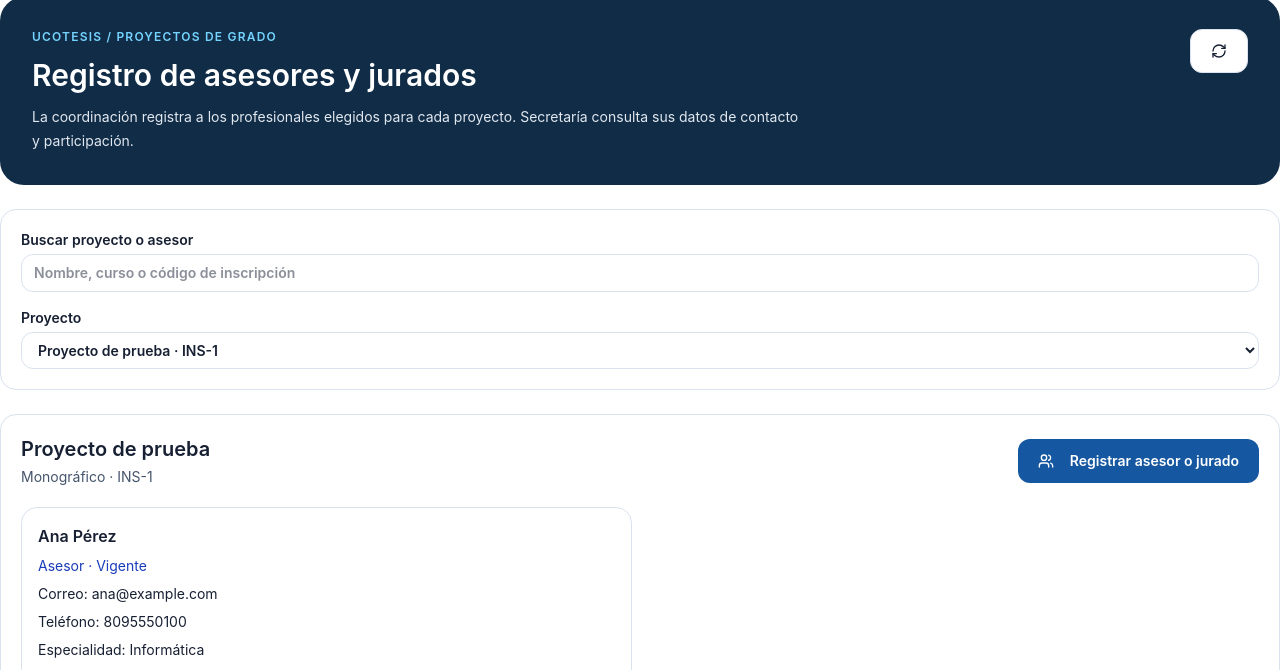
Scenario: Registro de asesores › registra datos desde Coordinación sin solicitar una cuenta o perfil del asesor
The image size is (1280, 670).
Click the button "Registrar asesor o jurado" at x=1138, y=461, box [1018,439,1259,483]
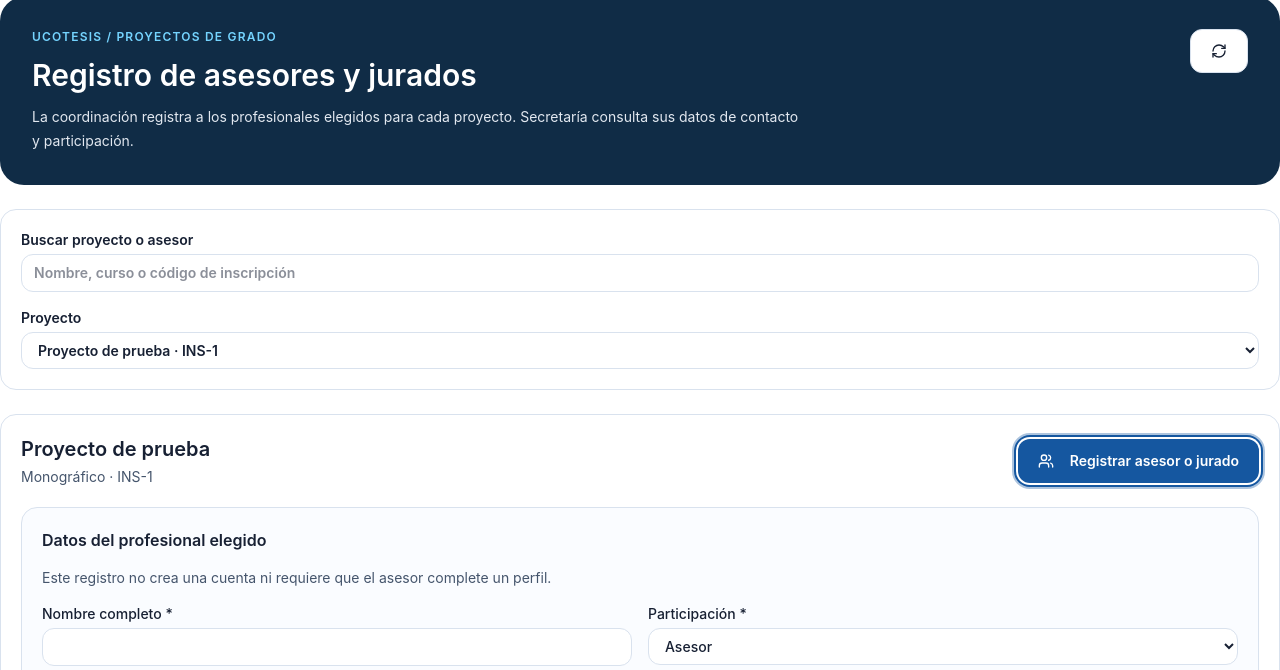
Type "María Santos" into the field labelled "Nombre completo *" at x=337, y=647, box [42,628,632,666]
(page scrolled)
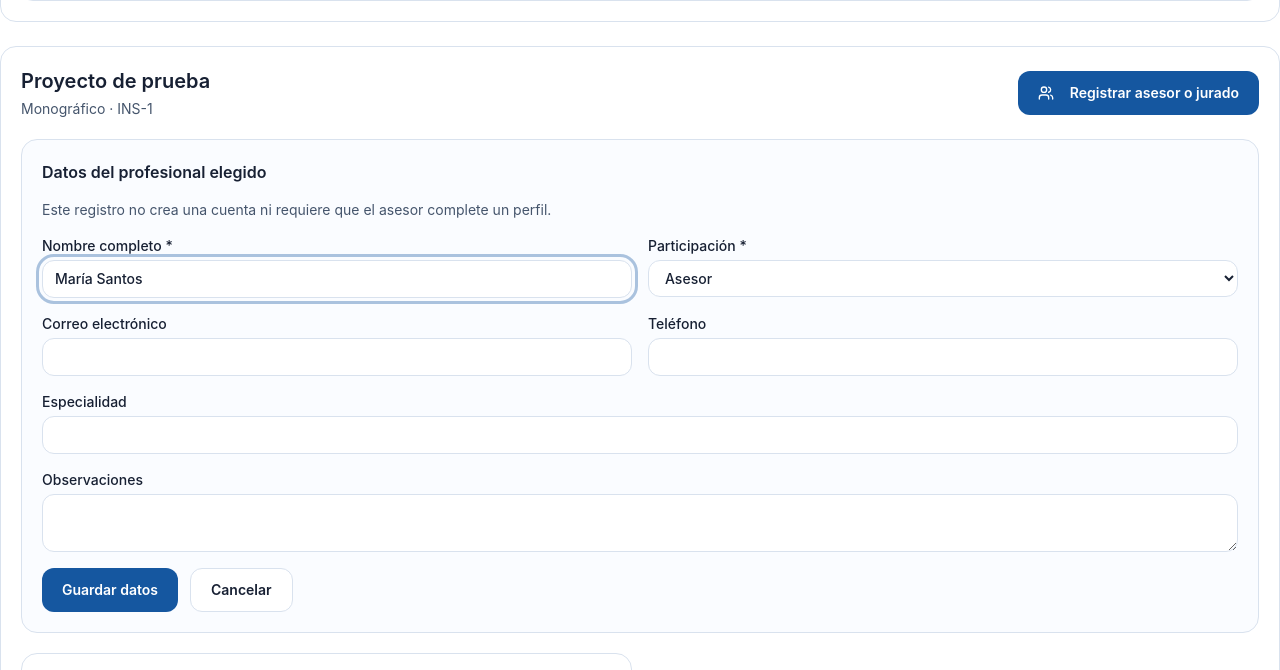
Type "maria@example.com" into the field labelled "Correo electrónico" at x=337, y=357, box [42,338,632,376]
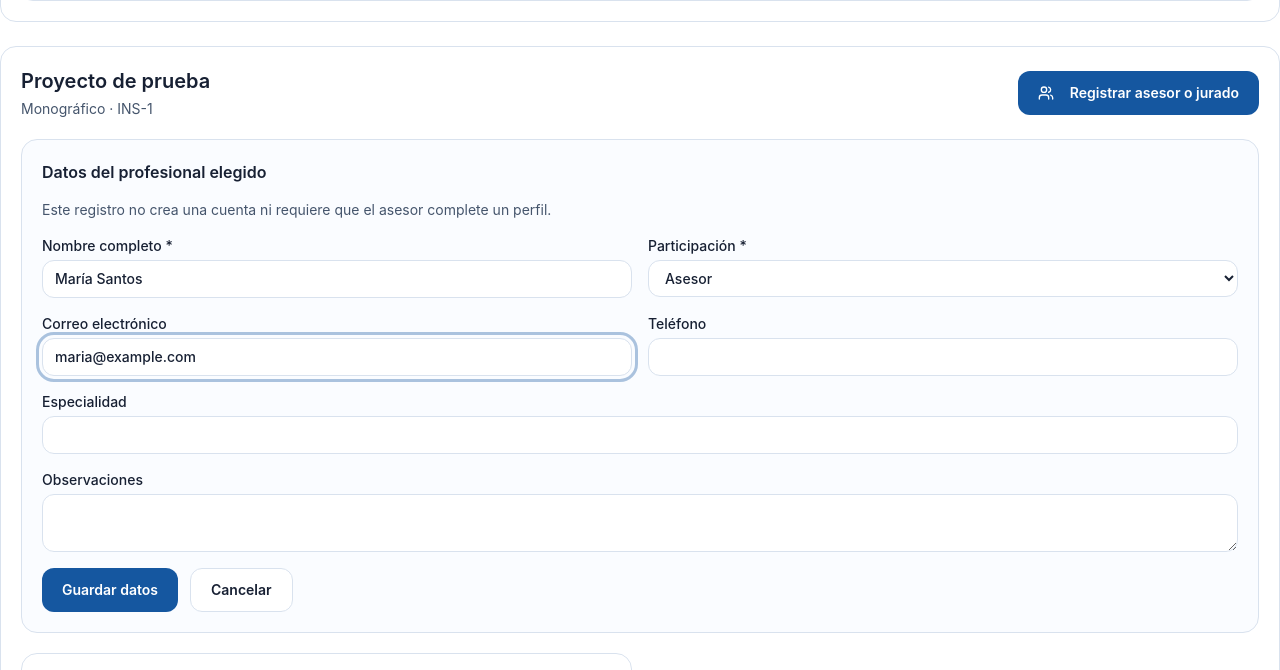
Click the button "Guardar datos" at x=110, y=590, box [42,568,178,612]
(page scrolled)
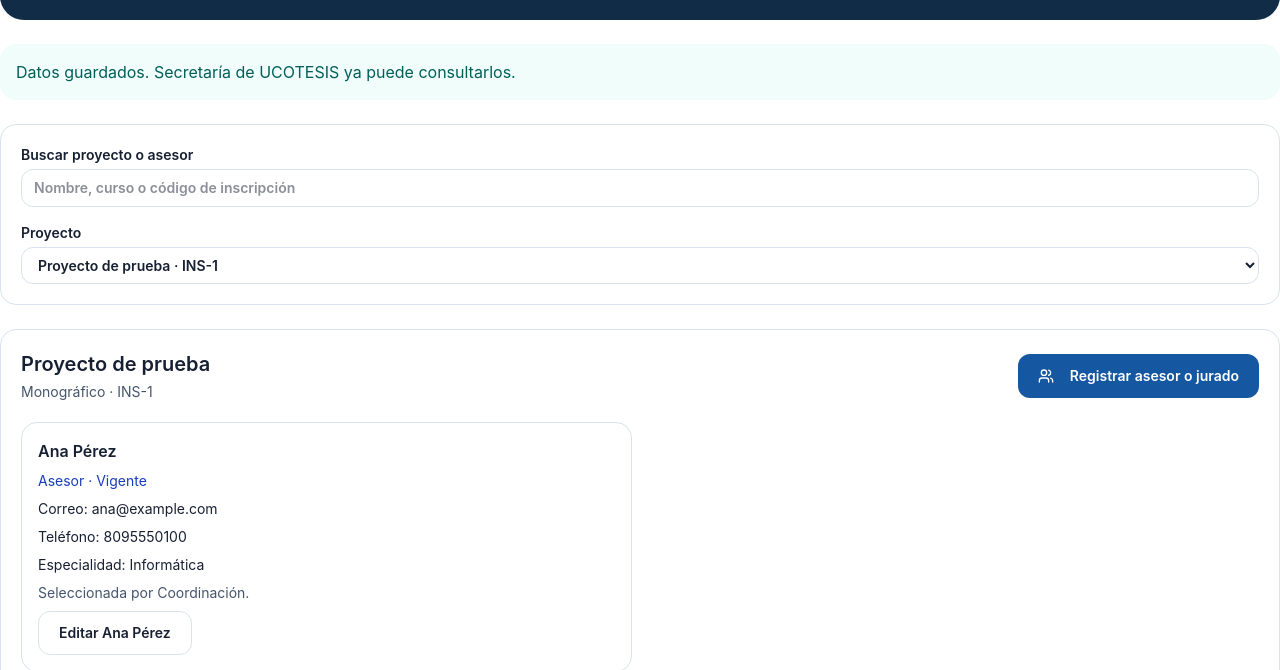
Expected: the message shows "Secretaría de UCOTESIS ya puede consultarlos", [16,62,516,82]
